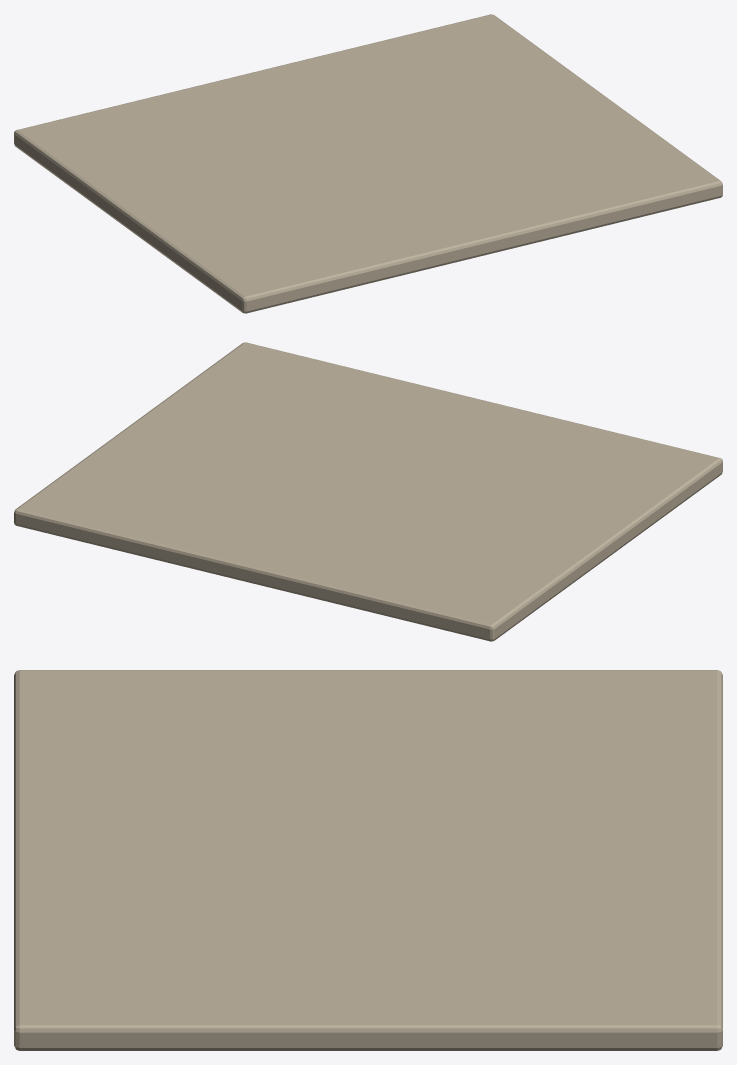
The picture shows the model from 3 angles, top to bottom: view 1: azimuth 30°, elevation 25°; view 2: azimuth 150°, elevation 25°; view 3: azimuth 270°, elevation 25°; orthographic projection. The views are drawn at different scales.
Parts seen in each view (by area): view 1: ai_export; view 2: ai_export; view 3: ai_export.
Part boxes in pixels (<box>): ai_export: <box>14,14,722,313</box>; ai_export: <box>14,342,722,641</box>; ai_export: <box>14,670,722,1050</box>.
Bounding box in the file's own units: 12 × 0.4 × 10.
